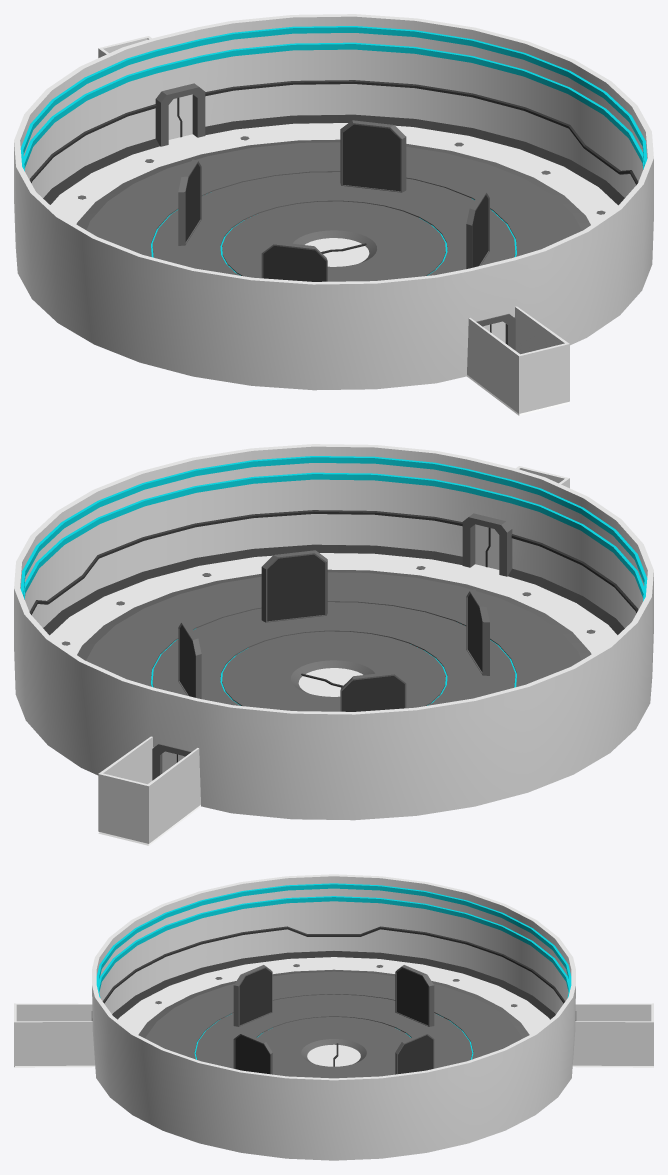
Rendered from SciFiRoomCircular (6).fbx.
3 views of the same model, one above another, from view 1: azimuth 30°, elevation 25°; view 2: azimuth 150°, elevation 25°; view 3: azimuth 270°, elevation 25° (orthographic). The views are drawn at different scales.
Visible parts, largest first — view 1: Room1.001, Floor, NeonLights, Walls.015, Room1.019, Room1.005, Walls.014, Room3.009, Walls.016, Walls.002, Room1.020, Room1.004; view 2: Room1.001, Floor, NeonLights, Walls.002, Room1.021, Room1.008, Walls.016, Room3.008, Walls.014, Walls.015, Room1.022, Room1.003; view 3: Room1.001, Floor, NeonLights, Room1.022, Room1.020, Walls.014, Walls.016, Room1.019, Room1.021, Walls.002, Walls.015, Room1.004 (+1 smaller).
Boxes of the visible parts, x1,y1,x2,y2 form: Room1.001: (14, 14, 653, 390); Floor: (50, 123, 617, 281); NeonLights: (20, 26, 647, 275); Walls.015: (340, 120, 406, 192); Room1.019: (467, 318, 520, 413); Room1.005: (519, 343, 569, 413); Walls.014: (261, 242, 327, 281); Room3.009: (155, 83, 205, 146); Walls.016: (178, 159, 201, 245); Walls.002: (466, 192, 489, 268); Room1.020: (514, 306, 569, 354); Room1.004: (323, 246, 369, 266); Room1.001: (14, 444, 653, 820); Floor: (50, 553, 617, 711); NeonLights: (20, 456, 647, 705); Walls.002: (261, 550, 327, 622); Room1.021: (147, 748, 200, 843); Room1.008: (98, 773, 148, 843); Walls.016: (340, 672, 406, 711); Room3.008: (462, 513, 512, 576); Walls.014: (466, 589, 489, 675); Walls.015: (178, 622, 201, 698); Room1.022: (98, 736, 153, 784); Room1.003: (298, 676, 340, 696); Room1.001: (92, 874, 575, 1160); Floor: (118, 957, 549, 1078); NeonLights: (96, 883, 571, 1059); Room1.022: (572, 1021, 653, 1065); Room1.020: (14, 1021, 95, 1065); Walls.014: (233, 965, 272, 1026); Walls.016: (395, 965, 434, 1026); Room1.019: (14, 1003, 92, 1021); Room1.021: (575, 1003, 653, 1021); Walls.002: (233, 1033, 272, 1074); Walls.015: (395, 1033, 434, 1074); Room1.004: (307, 1044, 336, 1066).
Size of the model in its own units: 3783 by 1155 by 4966.
1 material, 1 textured.
